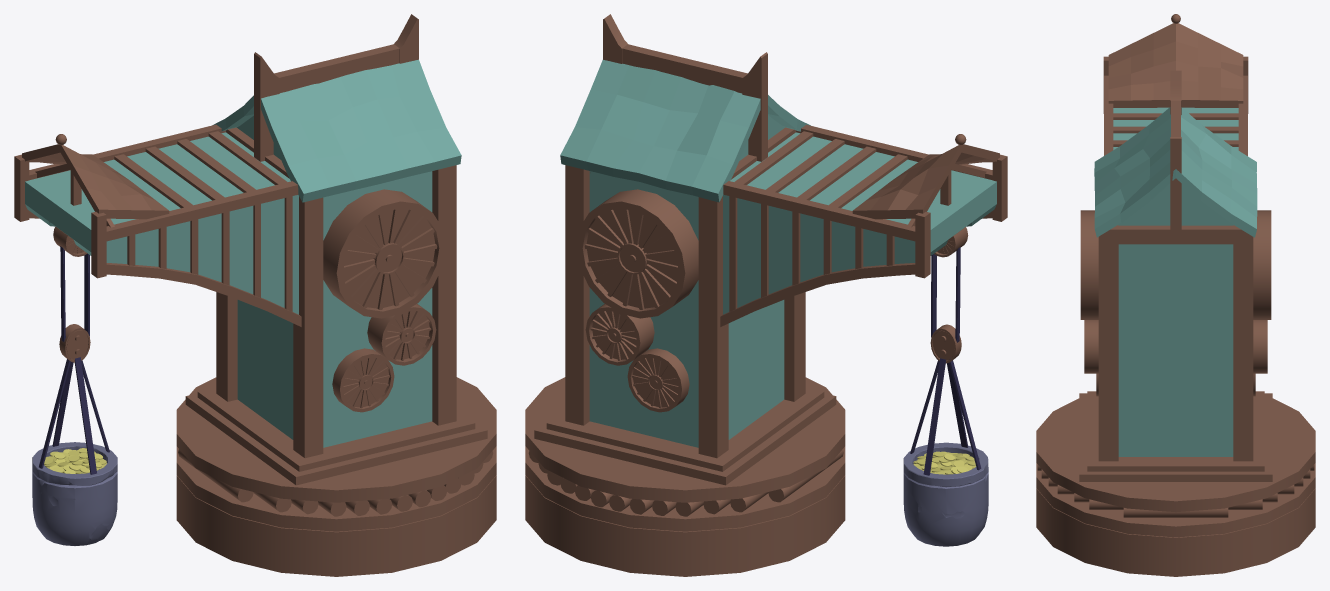
The model's file is avaricebuilding2.FBX.
3 renders of one model, left to right at view 1: azimuth 30°, elevation 25°; view 2: azimuth 150°, elevation 25°; view 3: azimuth 270°, elevation 25°, orthographic. The views are drawn at different scales.
Visible parts, largest first — view 1: Group008, Group009, Box003, Shape001, Cylinder001, Cylinder017, Shape006, Cylinder002, Box002, Cylinder077, Box001, Shape010 (+6 smaller); view 2: Group008, Group009, Box003, Shape001, Cylinder001, Cylinder017, Shape006, Cylinder002, Box002, Cylinder077, Box001, Shape010 (+6 smaller); view 3: Box003, Group009, Group008, Cylinder001, Cylinder017, Shape001, Cylinder002, Box002, Box001, Shape012, Shape002, Shape010 (+4 smaller).
Part boxes in pixels (box(x1,y1,x2,y2)): Group008: box(25, 59, 461, 314); Group009: box(22, 144, 445, 412); Box003: box(237, 115, 432, 447); Shape001: box(216, 165, 456, 458); Cylinder001: box(176, 475, 496, 576); Cylinder017: box(176, 377, 496, 502); Shape006: box(29, 124, 301, 326); Cylinder002: box(176, 446, 496, 531); Box002: box(197, 387, 475, 471); Cylinder077: box(32, 471, 117, 545); Box001: box(185, 393, 487, 485); Shape010: box(114, 131, 287, 208); Group008: box(560, 60, 996, 314); Group009: box(576, 144, 999, 412); Box003: box(589, 115, 784, 447); Shape001: box(565, 165, 805, 458); Cylinder001: box(525, 475, 845, 576); Cylinder017: box(525, 377, 845, 502); Shape006: box(720, 124, 992, 326); Cylinder002: box(525, 446, 845, 531); Box002: box(546, 387, 824, 471); Cylinder077: box(903, 467, 988, 546); Box001: box(534, 393, 836, 485); Shape010: box(734, 131, 907, 208); Box003: box(1118, 183, 1233, 456); Group009: box(1080, 23, 1271, 396); Group008: box(1094, 107, 1257, 237); Cylinder001: box(1036, 488, 1315, 576); Cylinder017: box(1036, 398, 1315, 512); Shape001: box(1098, 225, 1253, 461); Cylinder002: box(1036, 463, 1315, 537); Box002: box(1087, 391, 1264, 471); Box001: box(1079, 393, 1272, 481); Shape012: box(1118, 225, 1233, 244); Shape002: box(1170, 70, 1181, 231); Shape010: box(1113, 113, 1238, 146).
Bounding box in the file's own units: 82.2 × 84.57 × 51.84.
